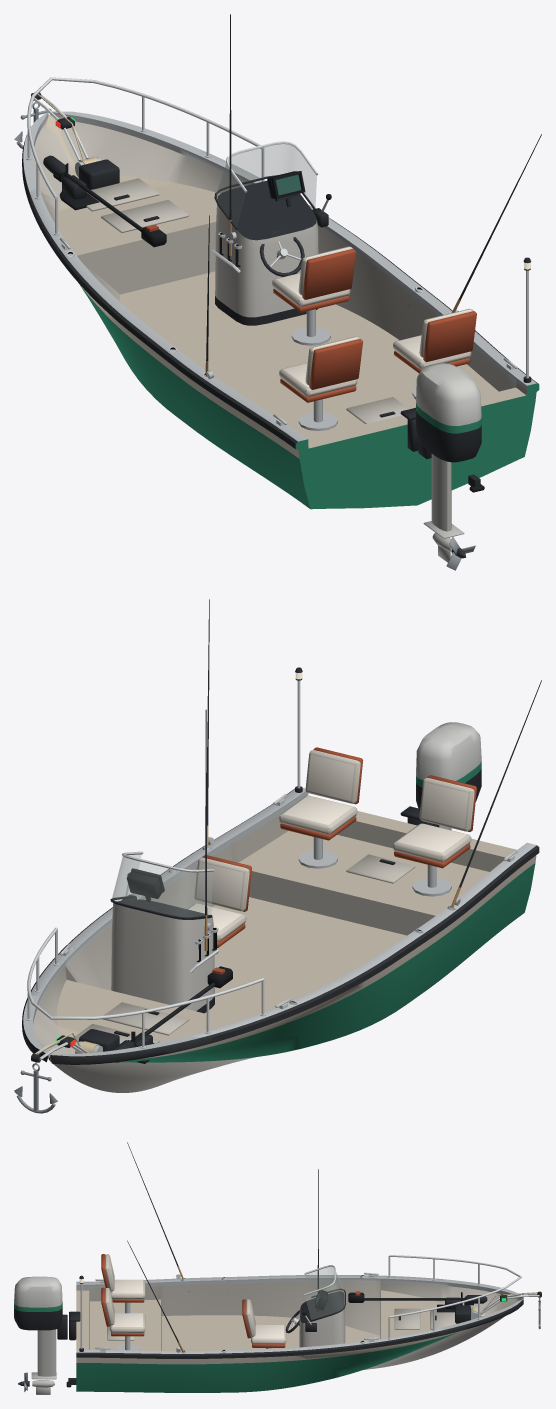
Rendered from albakor.glb.
3 views of the same model, one above another, from view 1: azimuth 30°, elevation 25°; view 2: azimuth 150°, elevation 25°; view 3: azimuth 270°, elevation 25° (orthographic). The views are drawn at different scales.
Parts seen in each view (by area): view 1: albakor_body, motor, rods; view 2: albakor_body, motor, rods, anchor; view 3: albakor_body, motor, rods.
Boxes of the visible parts, bbox=[...] form: albakor_body: bbox=[22, 77, 539, 509]; motor: bbox=[416, 363, 481, 562]; rods: bbox=[205, 14, 541, 379]; albakor_body: bbox=[22, 667, 539, 1092]; motor: bbox=[416, 722, 481, 830]; rods: bbox=[204, 599, 541, 950]; anchor: bbox=[14, 1063, 57, 1113]; albakor_body: bbox=[66, 1254, 541, 1392]; motor: bbox=[14, 1276, 67, 1394]; rods: bbox=[127, 1142, 318, 1352].
Bounding box in the file's own units: 2.92 × 3.16 × 6.61.
